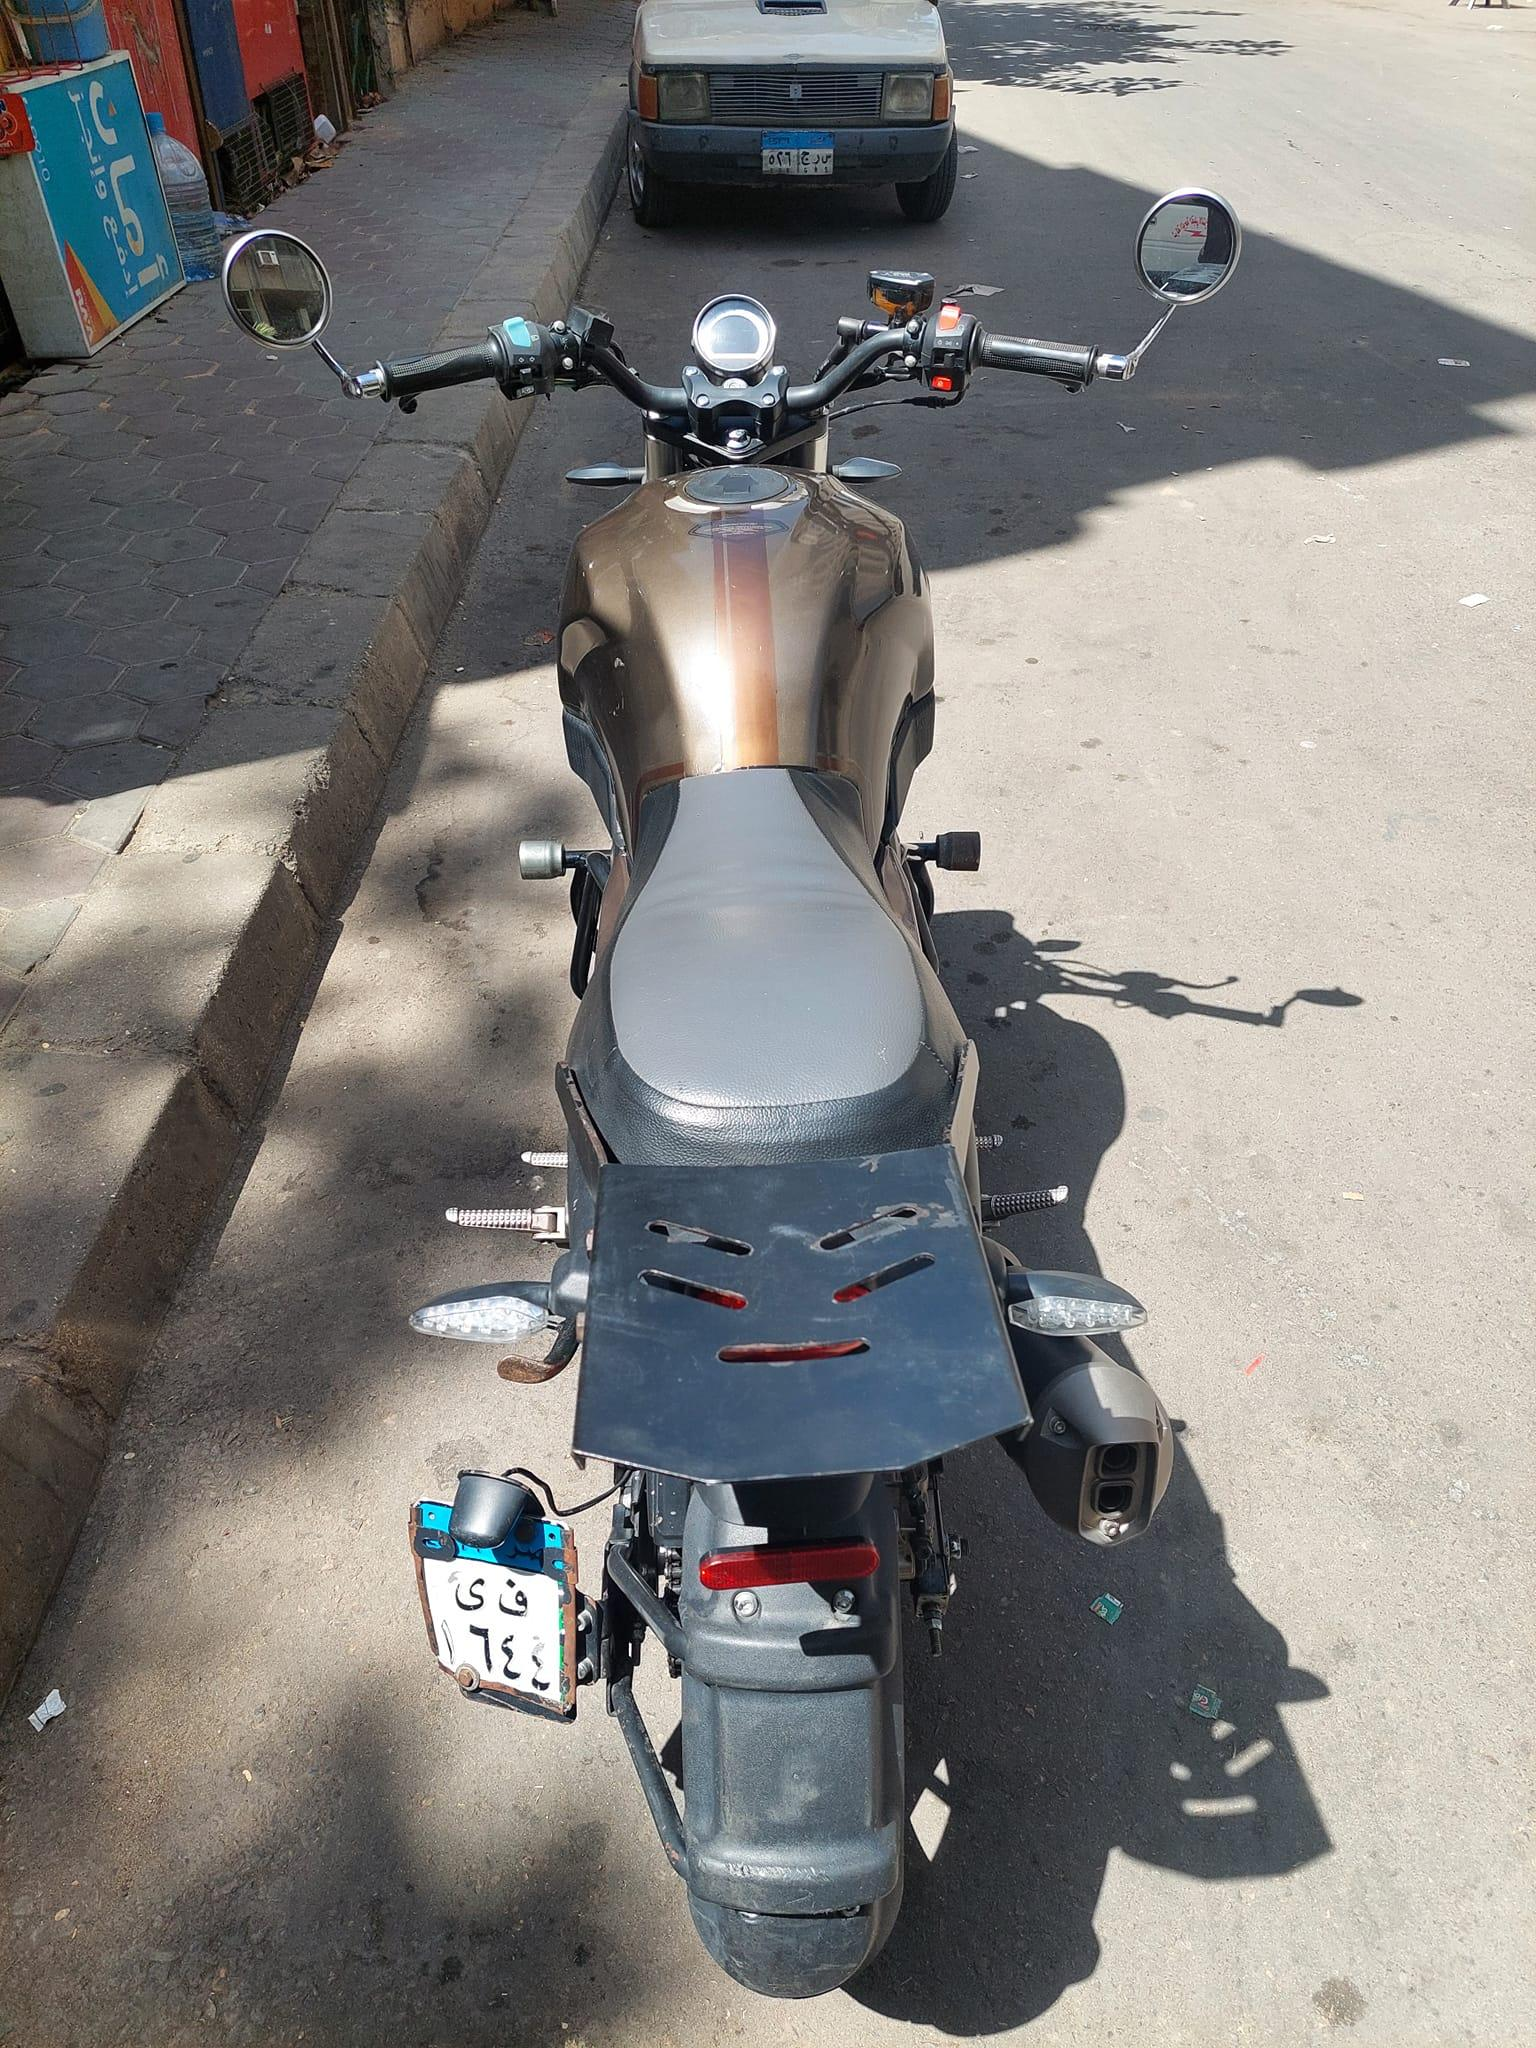License Plate: (410, 1509, 581, 1713)
